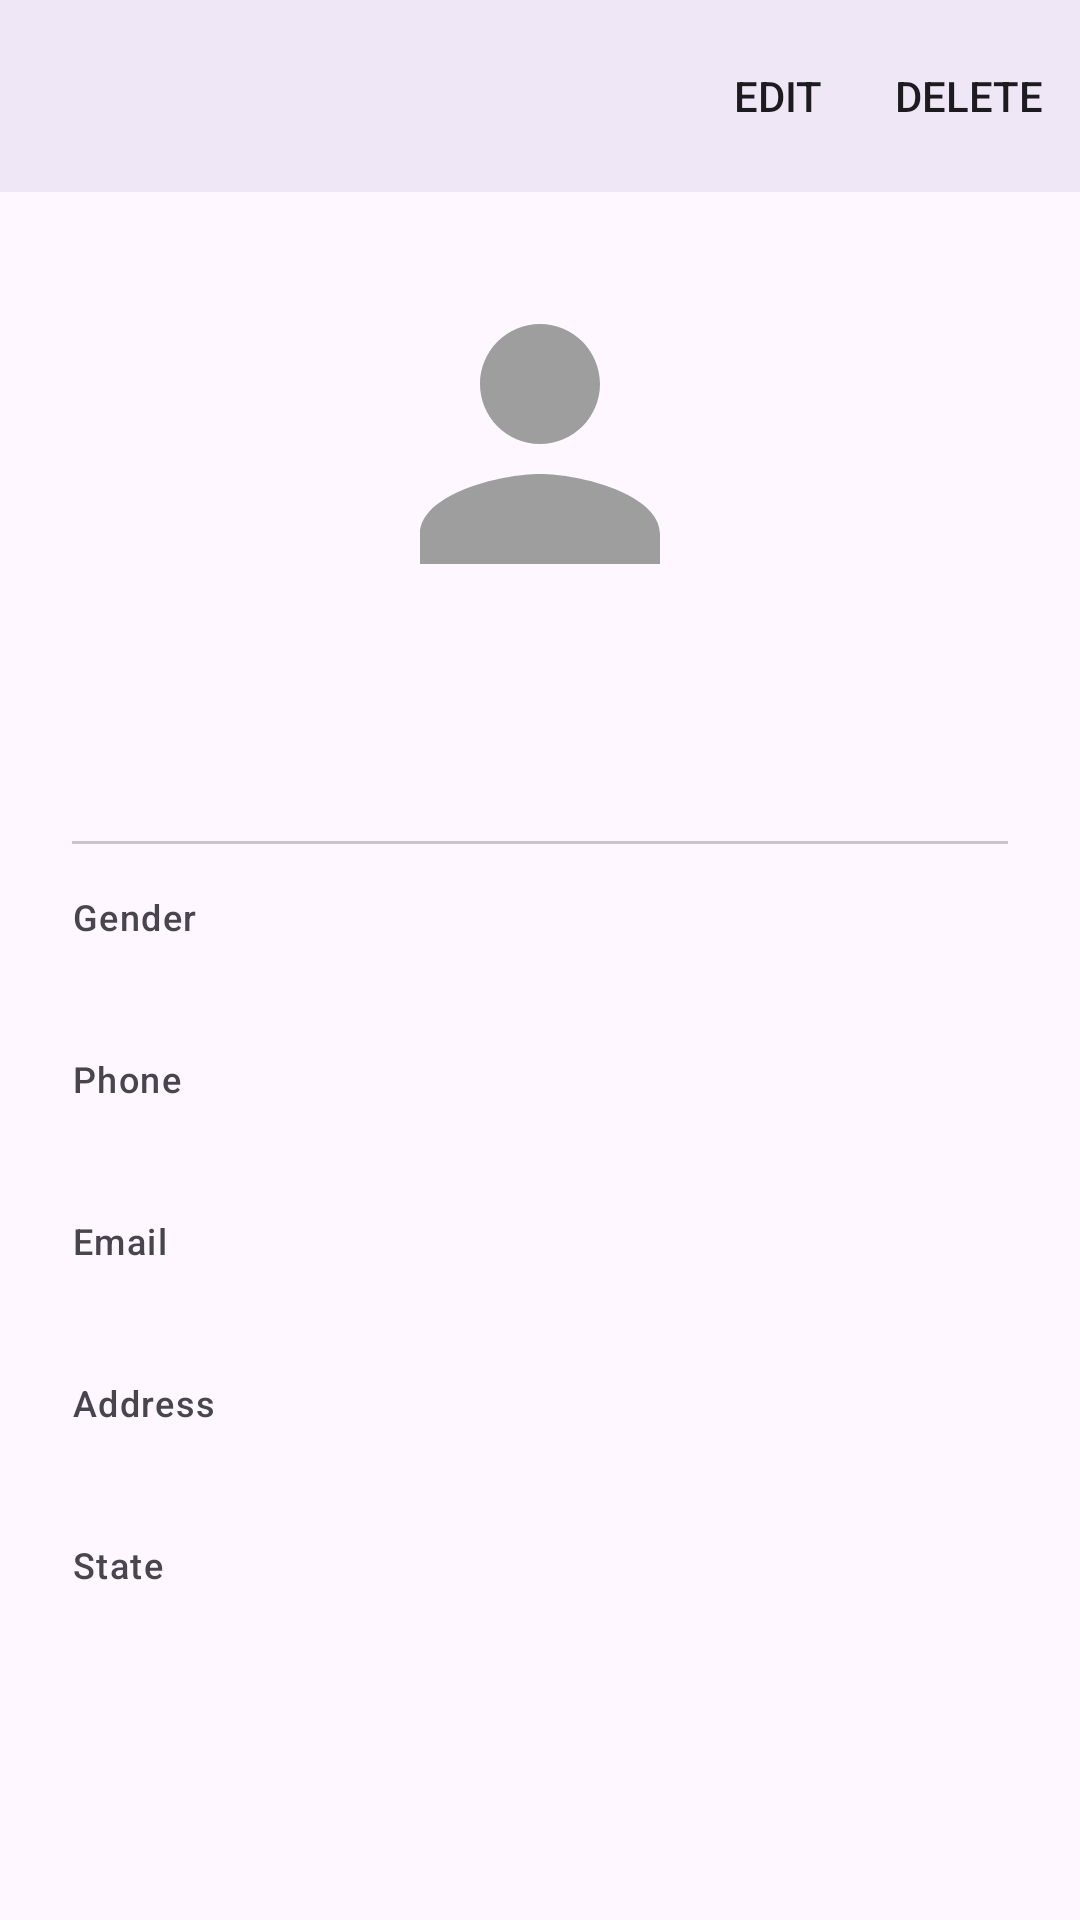

Icons on this 1080px×1920px Android screen, each with the point to tap as (x,y):
Friend photo: (540,444)
